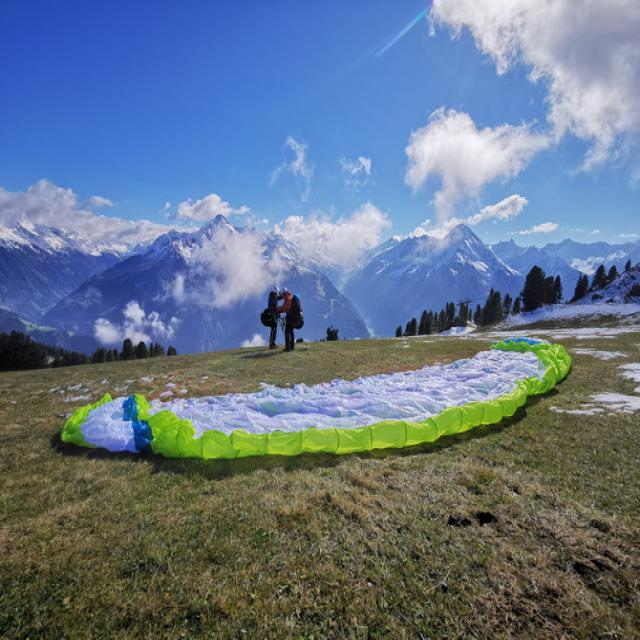paraglider: (59, 334, 572, 460)
